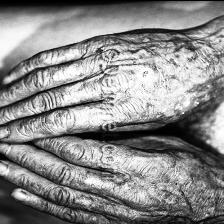Unclassified: (121, 36, 201, 110), (120, 161, 213, 224), (52, 46, 88, 116), (74, 178, 94, 222)
